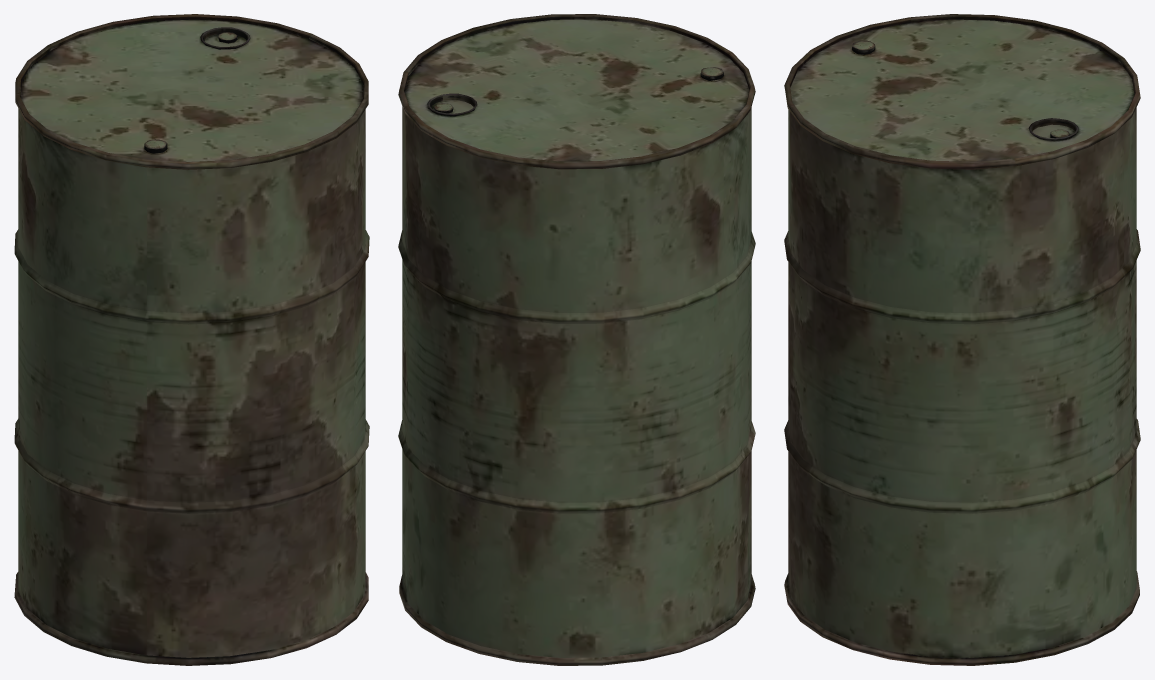
Rendered from barrel_green.glb.
The picture shows the model from 3 angles, left to right: view 1: azimuth 30°, elevation 25°; view 2: azimuth 150°, elevation 25°; view 3: azimuth 270°, elevation 25°; orthographic projection.
Parts seen in each view (by area): view 1: Barrel_01; view 2: Barrel_01; view 3: Barrel_01.
Part boxes in pixels (x1,y1,x2,y2): Barrel_01: [14, 14, 369, 665]; Barrel_01: [398, 14, 755, 665]; Barrel_01: [784, 14, 1140, 665].
Size of the model in its own units: 0.5629 by 0.88 by 0.5631.
1 material, 1 textured.
